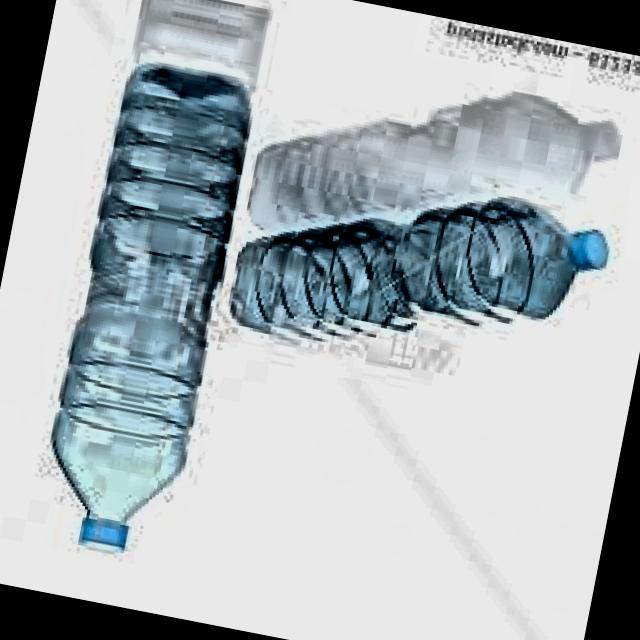plastic bottle: (53, 65, 254, 550), (234, 205, 607, 340)
